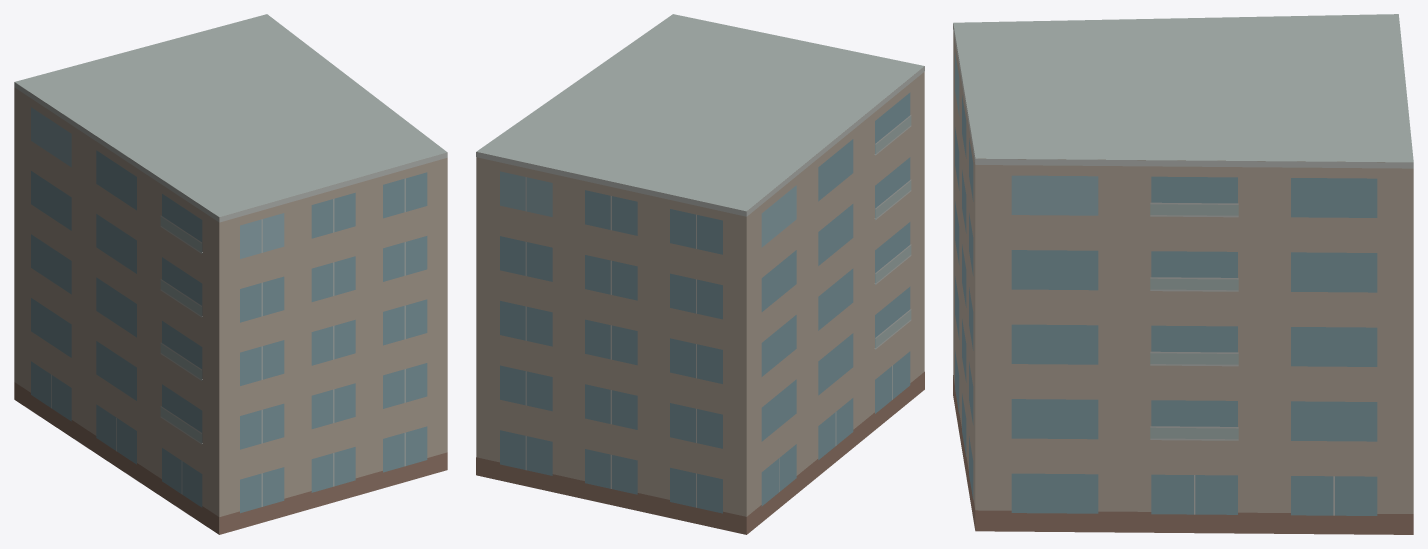
The model's file is survey-upis-32767985.glb.
3 views of the same model, side by side, from view 1: azimuth 30°, elevation 25°; view 2: azimuth 150°, elevation 25°; view 3: azimuth 270°, elevation 25° (orthographic). The views are drawn at different scales.
Parts seen in each view (by area): view 1: survey-upis-32767985.tmp; view 2: survey-upis-32767985.tmp; view 3: survey-upis-32767985.tmp.
Boxes of the visible parts, box(x1,y1,x2,y2) form: survey-upis-32767985.tmp: box(14, 14, 447, 534); survey-upis-32767985.tmp: box(476, 14, 924, 534); survey-upis-32767985.tmp: box(953, 14, 1413, 534).
Bounding box in the file's own units: 12.48 × 14.6 × 16.37.
